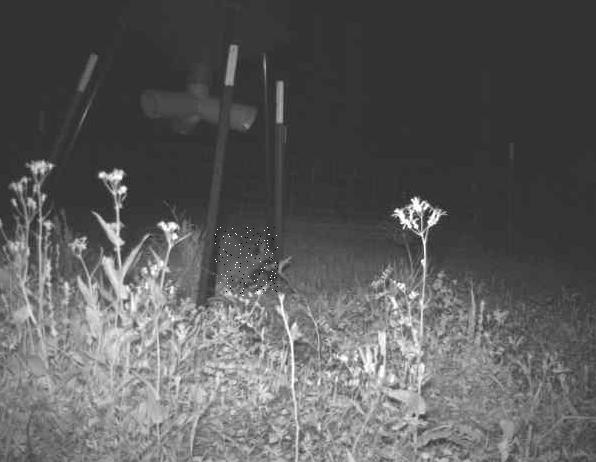Raccoon: (214, 227, 278, 296)
